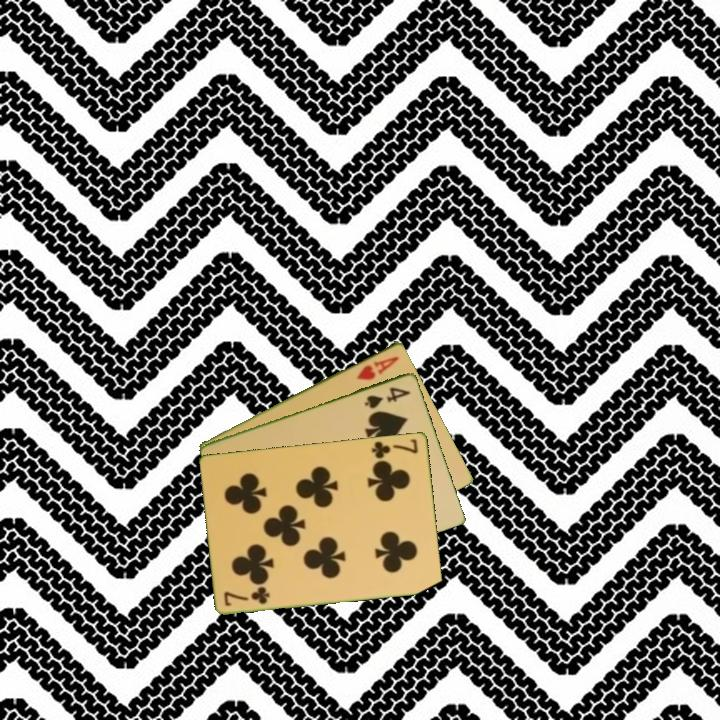4s: (361, 383, 413, 411)
7c: (368, 435, 421, 461), (221, 584, 273, 609)
Ah: (353, 352, 402, 383)
